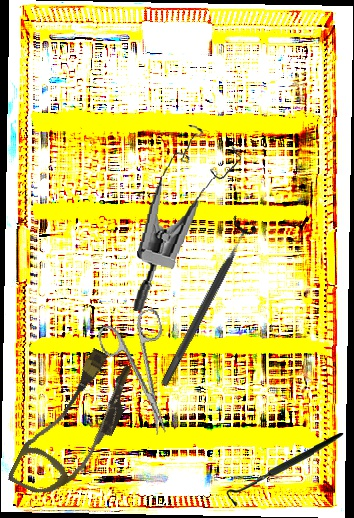Cannula: (6, 339, 144, 513)
Fixation Ring: (150, 214, 260, 392)
Hook Surgical: (225, 432, 346, 507)
Iris Scissors: (94, 307, 191, 443)
Speculum: (131, 120, 244, 321)
